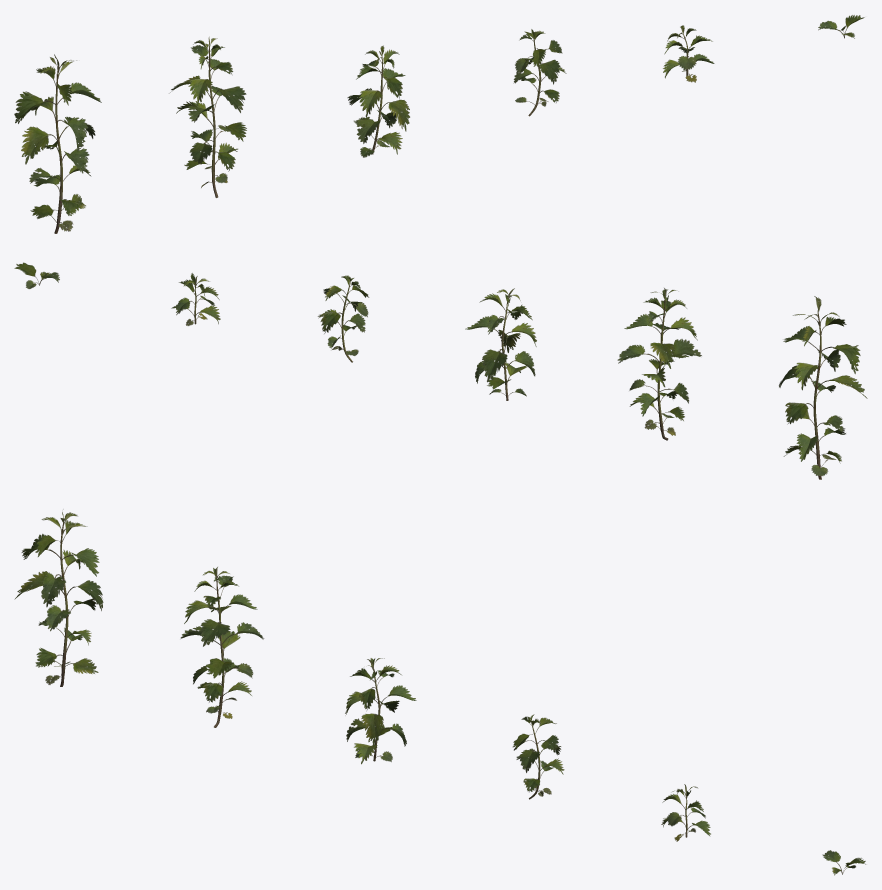
Rendered from polyhaven-nettle-plant.glb.
The picture shows the model from 3 angles, top to bottom: view 1: azimuth 30°, elevation 25°; view 2: azimuth 150°, elevation 25°; view 3: azimuth 330°, elevation 25°; orthographic projection.
Visible parts, largest first — view 1: nettle_plant_tall_a_LOD0_0, nettle_plant_tall_b_LOD0_0, nettle_plant_medium_a_LOD0_0, nettle_plant_medium_b_LOD0_0, nettle_plant_small_a_LOD0_0; view 2: nettle_plant_tall_a_LOD0_0, nettle_plant_tall_b_LOD0_0, nettle_plant_medium_a_LOD0_0, nettle_plant_medium_b_LOD0_0, nettle_plant_small_a_LOD0_0; view 3: nettle_plant_tall_a_LOD0_0, nettle_plant_tall_b_LOD0_0, nettle_plant_medium_a_LOD0_0, nettle_plant_medium_b_LOD0_0, nettle_plant_small_a_LOD0_0.
Boxes of the visible parts, x1,y1,x2,y2 form: nettle_plant_tall_a_LOD0_0: [14, 54, 101, 233]; nettle_plant_tall_b_LOD0_0: [169, 36, 246, 197]; nettle_plant_medium_a_LOD0_0: [347, 45, 409, 157]; nettle_plant_medium_b_LOD0_0: [513, 29, 566, 116]; nettle_plant_small_a_LOD0_0: [663, 25, 714, 82]; nettle_plant_tall_a_LOD0_0: [779, 296, 867, 479]; nettle_plant_tall_b_LOD0_0: [617, 288, 701, 440]; nettle_plant_medium_a_LOD0_0: [465, 288, 536, 400]; nettle_plant_medium_b_LOD0_0: [317, 275, 369, 362]; nettle_plant_small_a_LOD0_0: [171, 273, 220, 325]; nettle_plant_tall_a_LOD0_0: [14, 509, 103, 686]; nettle_plant_tall_b_LOD0_0: [180, 567, 264, 727]; nettle_plant_medium_a_LOD0_0: [345, 658, 416, 764]; nettle_plant_medium_b_LOD0_0: [512, 714, 564, 799]; nettle_plant_small_a_LOD0_0: [661, 784, 710, 841].
Size of the model in its own units: 1.08 by 0.2184 by 0.0947.
1 material, 1 textured.
